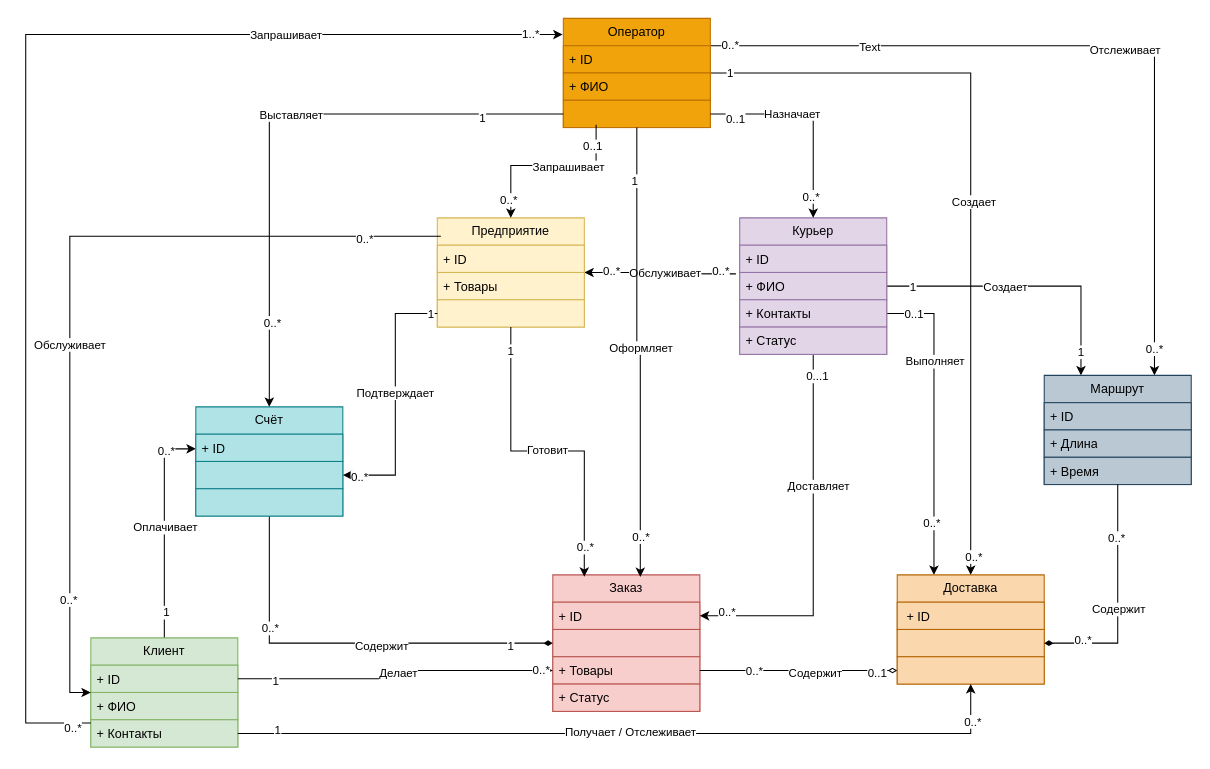
This 1210x769 diagram has some shape labels left out. The centre of each missing label's shape, as x and y in pixels:
"+ Беседы" goes at [636,113].
"+ Заказы" goes at [970,670].
"+ Маршрут" goes at [970,642].
"+ Прайс-лист" goes at [510,313].
"+ Сумма" goes at [269,474].
"+ Счета" goes at [626,642].
"+ Транзакция" goes at [269,502].
